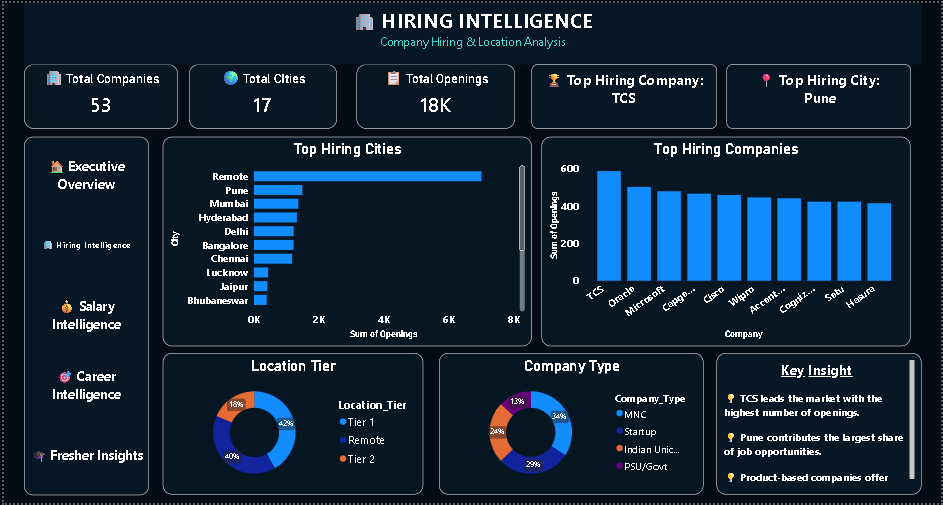

Layout of this report page (visuals, bound fields, positions):
{"tool":"powerbi","page":{"name":"🏢 Hiring Intelligence","canvas":[1500,800],"ordinal":1},"visuals":[{"type":"columnChart","title":"Top Hiring Companies","fields":{"Category":["india_job_market_2024_2026.Company"],"Y":["Sum(india_job_market_2024_2026.Openings)"]},"box":[860,213.3,590,335],"z":0},{"type":"barChart","title":"Top Hiring Cities","fields":{"Y":["Sum(india_job_market_2024_2026.Openings)"],"Category":["india_job_market_2024_2026.City"]},"box":[253.3,213.3,590,335],"z":1000},{"type":"donutChart","title":"Company Type","fields":{"Category":["india_job_market_2024_2026.Company_Type"],"Y":["CountNonNull(india_job_market_2024_2026.Job_ID)"]},"box":[695,560,423.3,226.7],"z":2000},{"type":"donutChart","title":"Location Tier","fields":{"Category":["india_job_market_2024_2026.Location_Tier"],"Y":["CountNonNull(india_job_market_2024_2026.Job_ID)"]},"box":[253.3,560,416.7,226.7],"z":3000},{"type":"cardVisual","title":"🏢 Total Companies","fields":{"Data":["Count(india_job_market_2024_2026.Company)"]},"box":[31.7,98.3,246.7,103.3],"z":4000},{"type":"cardVisual","title":"🌍 Total CIties","fields":{"Data":["Count(india_job_market_2024_2026.City)"]},"box":[296.7,98.3,236.7,103.3],"z":5000},{"type":"cardVisual","title":"📋 Total Openings","fields":{"Data":["Sum(india_job_market_2024_2026.Openings)"]},"box":[563.3,98.3,253.3,103.3],"z":6000},{"type":"pageNavigator","box":[31.7,213.3,200,573.3],"z":7000},{"type":"textbox","box":[1140,560,328.3,226.7],"z":8000},{"type":"textbox","box":[31.7,0,1436.7,98.3],"z":9000},{"type":"textbox","box":[843.3,98.3,296.7,103.3],"z":10000},{"type":"textbox","box":[1155,98.3,295,103.3],"z":11000}]}

Visuals, with their boxes in screenshot pixels (x1, y1, x2, y2), scaled from the page's 1500x800 canvas onto the 943x505 screenshot:
"Top Hiring Companies" columnChart: box(541, 135, 912, 346)
"Top Hiring Cities" barChart: box(159, 135, 530, 346)
"Company Type" donutChart: box(437, 354, 703, 497)
"Location Tier" donutChart: box(159, 354, 421, 497)
"🏢 Total Companies" cardVisual: box(20, 62, 175, 127)
"🌍 Total CIties" cardVisual: box(187, 62, 335, 127)
"📋 Total Openings" cardVisual: box(354, 62, 513, 127)
pageNavigator: box(20, 135, 146, 497)
textbox: box(717, 354, 923, 497)
textbox: box(20, 0, 923, 62)
textbox: box(530, 62, 717, 127)
textbox: box(726, 62, 912, 127)
